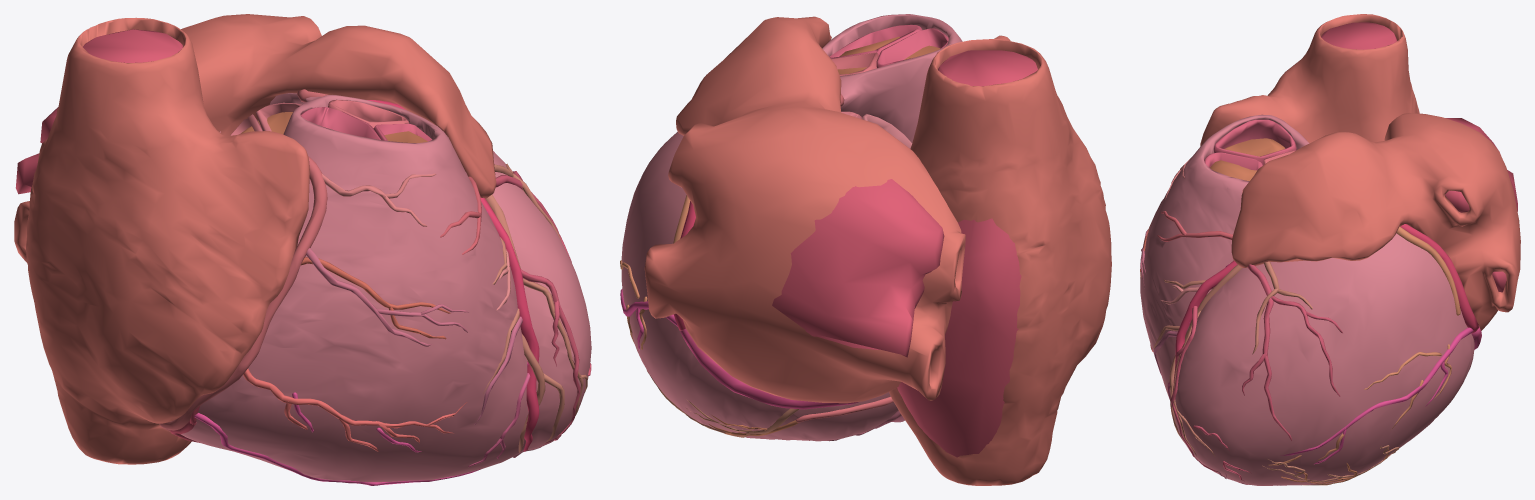
The model's file is body-heart.lod2.glb.
3 renders of one model, left to right at view 1: azimuth 30°, elevation 25°; view 2: azimuth 150°, elevation 25°; view 3: azimuth 270°, elevation 25°, orthographic. The views are drawn at different scales.
Parts seen in each view (by area): view 1: wall-of-ventricle, wall-of-atrium-r, wall-of-atrium-l, anterior-interventricular-vein, trunk-of-coronary-artery-r, cavity-of-atrium-r, trunk-of-anterior-interventricular-branch-of-coronary-artery, marginal-branch-of-coronary-artery-r, diagonal-branch-of-anterior-descending-branch-of-coronary-ar, first-anterior-ventricular-branch-of-coronary-artery-r, marginal-vein-r, anterior-cusp-of-pulmonary-valve-r (+4 smaller); view 2: wall-of-atrium-l, wall-of-atrium-r, wall-of-ventricle, cavity-of-atrium-l, cavity-of-atrium-r, coronary-sinus, anterior-cusp-of-pulmonary-valve-r, anterior-cusp-of-pulmonary-valve-l, circumflex-branch-of-coronary-artery-l, posterior-vein-of-ventricle-l, posterior-cusp-of-pulmonary-valve, cavity-of-ventricle-r (+1 smaller); view 3: wall-of-ventricle, wall-of-atrium-l, wall-of-atrium-r, diagonal-branch-of-anterior-descending-branch-of-coronary-ar, anterior-interventricular-vein, anterior-cusp-of-pulmonary-valve-r, cavity-of-atrium-r, circumflex-branch-of-coronary-artery-l, marginal-vein-l, cavity-of-ventricle-r, great-cardiac-vein, trunk-of-anterior-interventricular-branch-of-coronary-artery (+4 smaller).
Part boxes in pixels (left/top/right/bottom): wall-of-ventricle: left=170, top=93, right=591, bottom=482; wall-of-atrium-r: left=26, top=17, right=309, bottom=464; wall-of-atrium-l: left=14, top=14, right=496, bottom=262; anterior-interventricular-vein: left=483, top=163, right=587, bottom=452; trunk-of-coronary-artery-r: left=159, top=156, right=327, bottom=431; cavity-of-atrium-r: left=83, top=29, right=182, bottom=62; trunk-of-anterior-interventricular-branch-of-coronary-artery: left=367, top=100, right=539, bottom=451; marginal-branch-of-coronary-artery-r: left=243, top=368, right=467, bottom=451; diagonal-branch-of-anterior-descending-branch-of-coronary-ar: left=495, top=171, right=591, bottom=446; first-anterior-ventricular-branch-of-coronary-artery-r: left=306, top=248, right=468, bottom=346; marginal-vein-r: left=194, top=392, right=481, bottom=485; anterior-cusp-of-pulmonary-valve-r: left=300, top=107, right=380, bottom=139; wall-of-atrium-l: left=644, top=16, right=965, bottom=403; wall-of-atrium-r: left=889, top=35, right=1111, bottom=485; wall-of-ventricle: left=621, top=14, right=962, bottom=441; cavity-of-atrium-l: left=772, top=179, right=944, bottom=357; cavity-of-atrium-r: left=897, top=50, right=1037, bottom=457; coronary-sinus: left=680, top=329, right=858, bottom=409; anterior-cusp-of-pulmonary-valve-r: left=876, top=28, right=948, bottom=67; anterior-cusp-of-pulmonary-valve-l: left=829, top=24, right=922, bottom=58; circumflex-branch-of-coronary-artery-l: left=620, top=195, right=690, bottom=349; posterior-vein-of-ventricle-l: left=647, top=370, right=798, bottom=437; posterior-cusp-of-pulmonary-valve: left=831, top=52, right=878, bottom=75; cavity-of-ventricle-r: left=837, top=36, right=940, bottom=74; wall-of-ventricle: left=1140, top=114, right=1474, bottom=485; wall-of-atrium-l: left=1231, top=113, right=1520, bottom=330; wall-of-atrium-r: left=1200, top=14, right=1419, bottom=146; diagonal-branch-of-anterior-descending-branch-of-coronary-ar: left=1170, top=264, right=1342, bottom=481; anterior-interventricular-vein: left=1153, top=261, right=1312, bottom=456; anterior-cusp-of-pulmonary-valve-r: left=1214, top=119, right=1296, bottom=165; cavity-of-atrium-r: left=1321, top=22, right=1397, bottom=49; circumflex-branch-of-coronary-artery-l: left=1267, top=226, right=1460, bottom=465; marginal-vein-l: left=1281, top=327, right=1473, bottom=464; cavity-of-ventricle-r: left=1210, top=138, right=1285, bottom=180; great-cardiac-vein: left=1400, top=224, right=1478, bottom=333; trunk-of-anterior-interventricular-branch-of-coronary-artery: left=1175, top=260, right=1237, bottom=367.
Size of the model in its own units: 0.1156 by 0.1053 by 0.1064.
